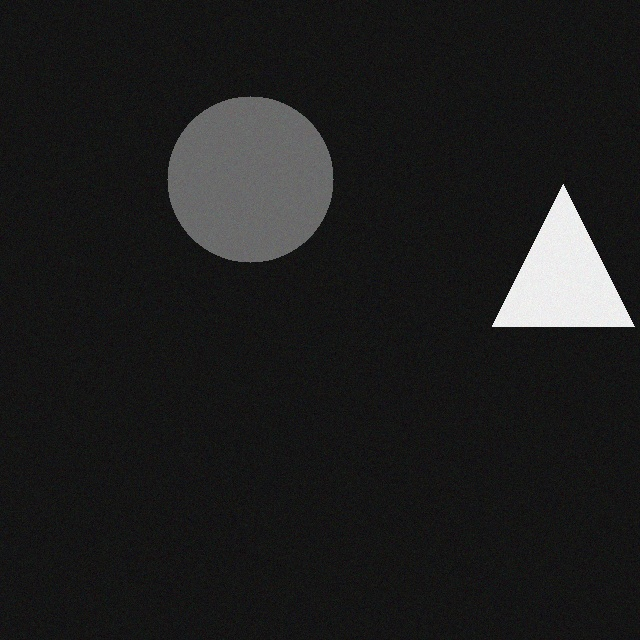circle: (168, 83, 334, 249)
triangle: (493, 171, 635, 313)
